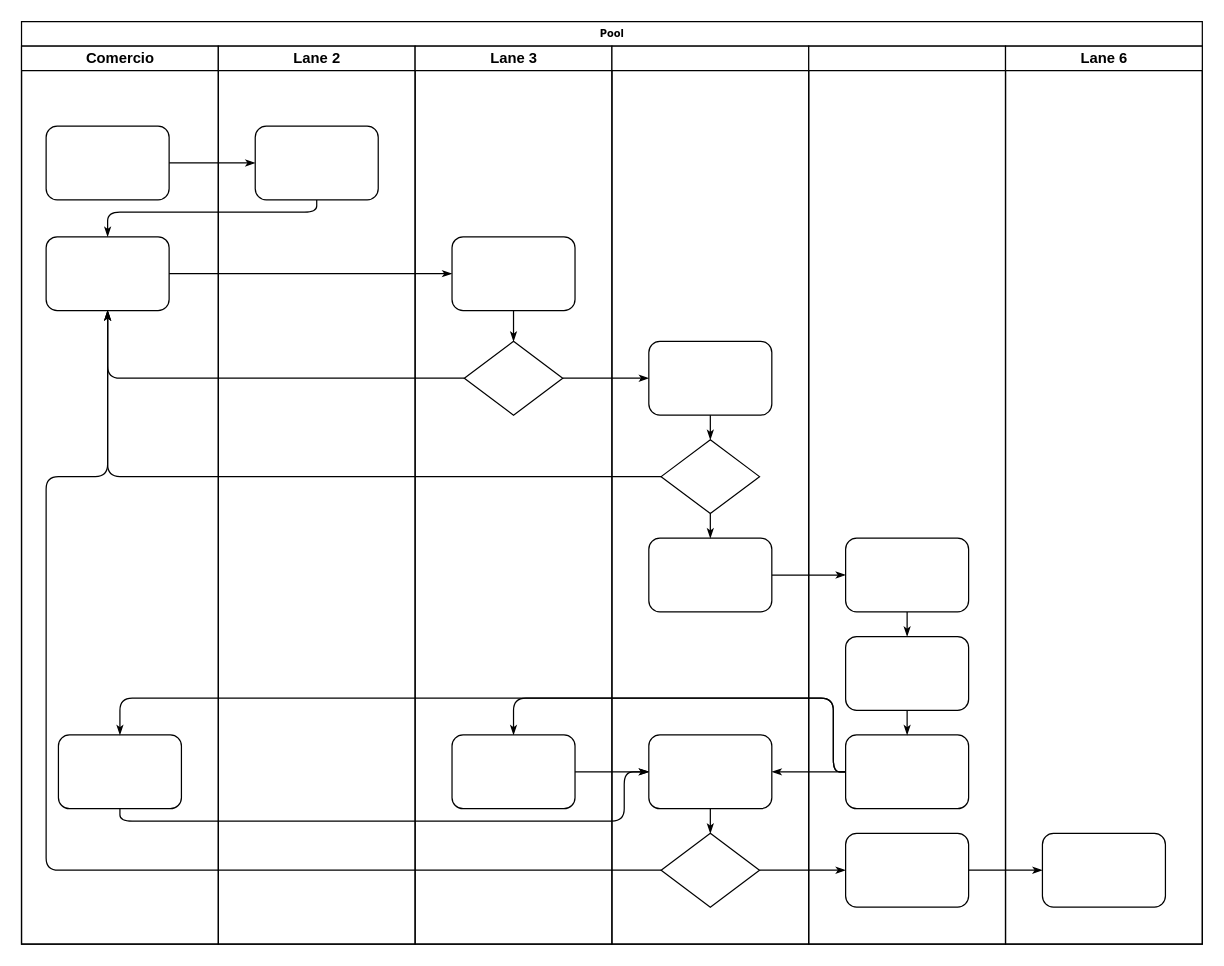
This 1224x966 diagram has some shape labels left out. Here are the shapes that lost their labels. From the top down, the box of each, then its label:
(611, 45, 809, 944): Lane 4
(807, 45, 1006, 944): Lane 5
